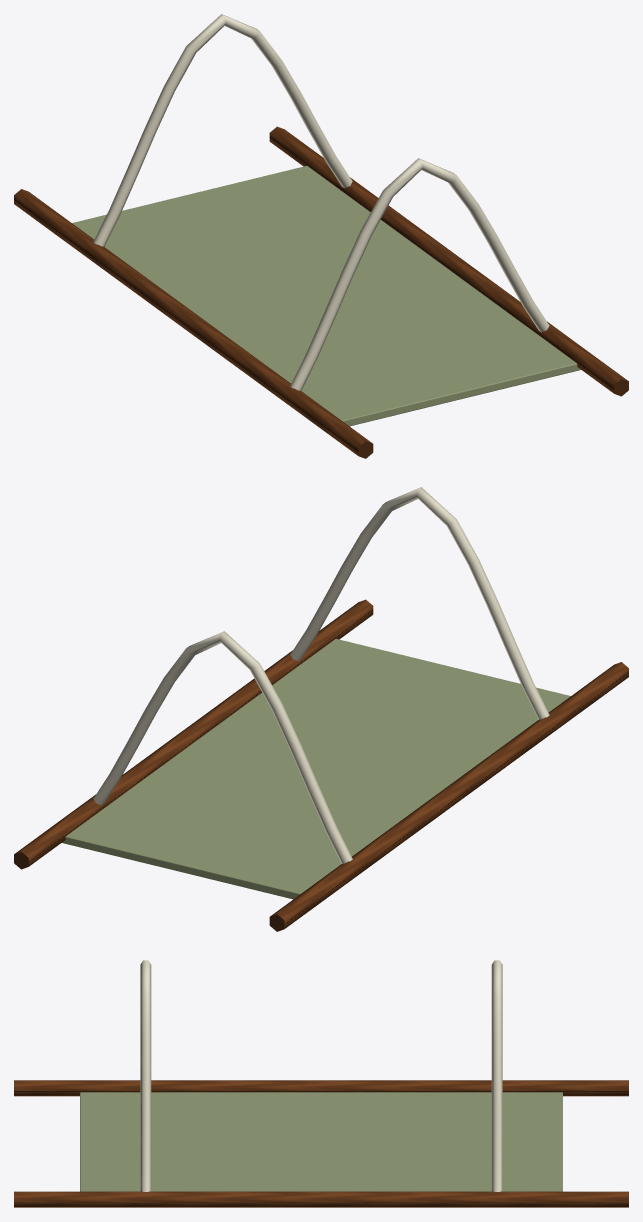
File: creature-husbandry-and-transport-stretcher-sling-97332a4d__24026.glb
3 renders of one model, top to bottom at view 1: azimuth 30°, elevation 25°; view 2: azimuth 150°, elevation 25°; view 3: azimuth 270°, elevation 25°, orthographic. The views are drawn at different scales.
Parts seen in each view (by area): view 1: stretcher-sling; view 2: stretcher-sling; view 3: stretcher-sling.
Boxes of the visible parts, x1,y1,x2,y2 form: stretcher-sling: (14, 14, 628, 458); stretcher-sling: (14, 487, 628, 931); stretcher-sling: (14, 960, 628, 1207).
Size of the model in its own units: 1.27 by 0.9617 by 2.8.
Materials: 3 (1 with a texture image).
